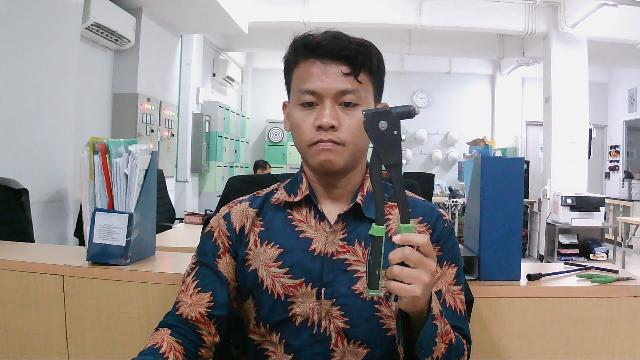tang_rivet: (353, 103, 433, 299)
